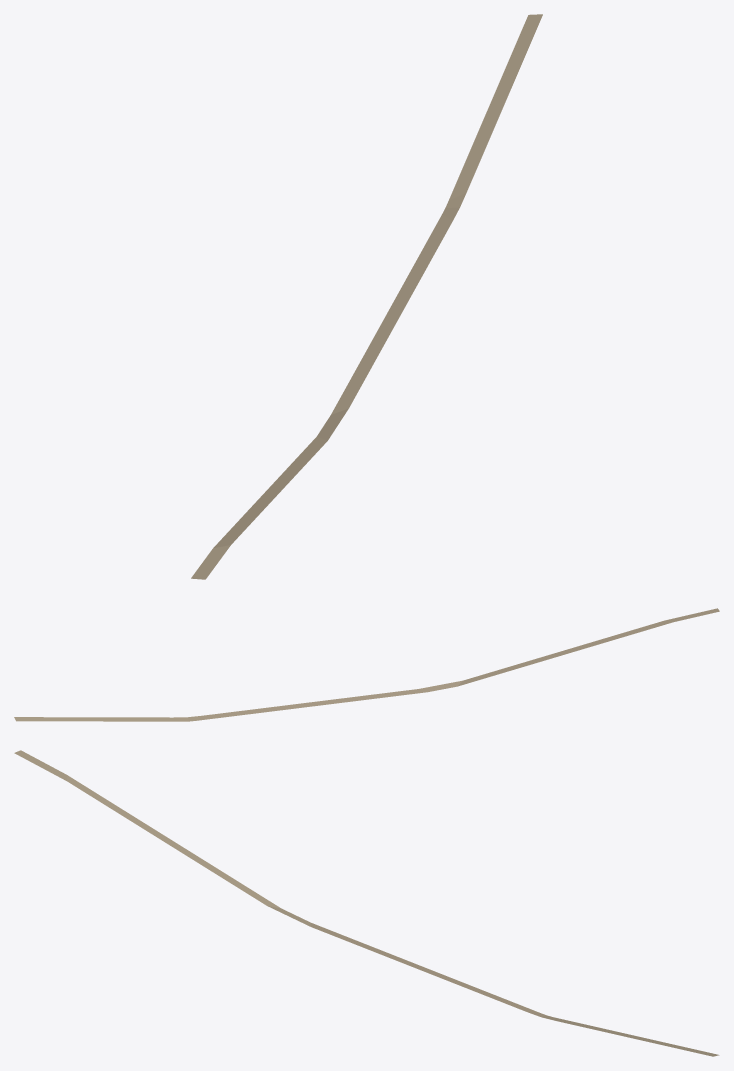
Rendered from farm_-21_-25_track.glb.
3 renders of one model, top to bottom at view 1: azimuth 30°, elevation 25°; view 2: azimuth 150°, elevation 25°; view 3: azimuth 270°, elevation 25°, orthographic. The views are drawn at different scales.
Visible parts, largest first — view 1: geometry_0; view 2: geometry_0; view 3: geometry_0.
Part boxes in pixels (left/top/right/bottom): geometry_0: left=191, top=14, right=542, bottom=579; geometry_0: left=14, top=608, right=719, bottom=721; geometry_0: left=14, top=750, right=719, bottom=1056.
Bounding box in the file's own units: 218 × 20.69 × 231.
